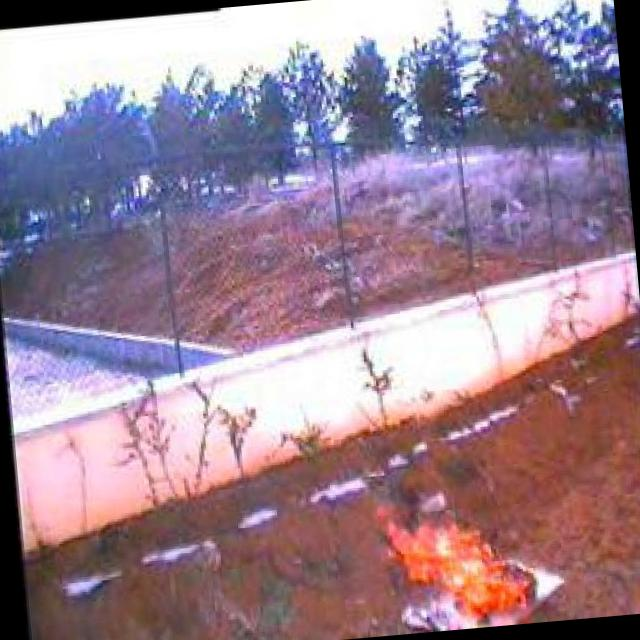Fire: (364, 478, 542, 636)
